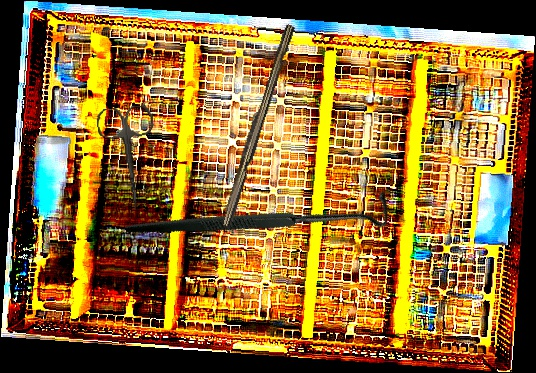Hook Surgical: (122, 98, 400, 331)
Iris Scissors: (95, 104, 163, 213)
Scalpel Handle: (217, 21, 296, 231)
